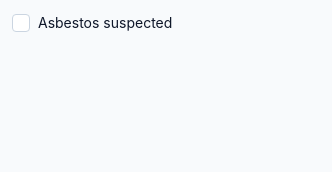
Test: Checkbox › toggles when the label is clicked
expect the checkbox named "Asbestos suspected" is not checked: met, box x1=12 y1=14 x2=30 y2=32
Click the text "Asbestos suspected". click: [105, 22]
box: x1=38 y1=12 x2=172 y2=33
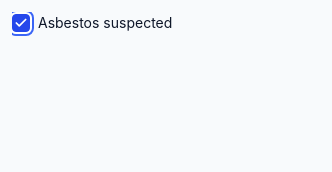
expect the checkbox named "Asbestos suspected" is checked: met, box x1=12 y1=14 x2=30 y2=32
